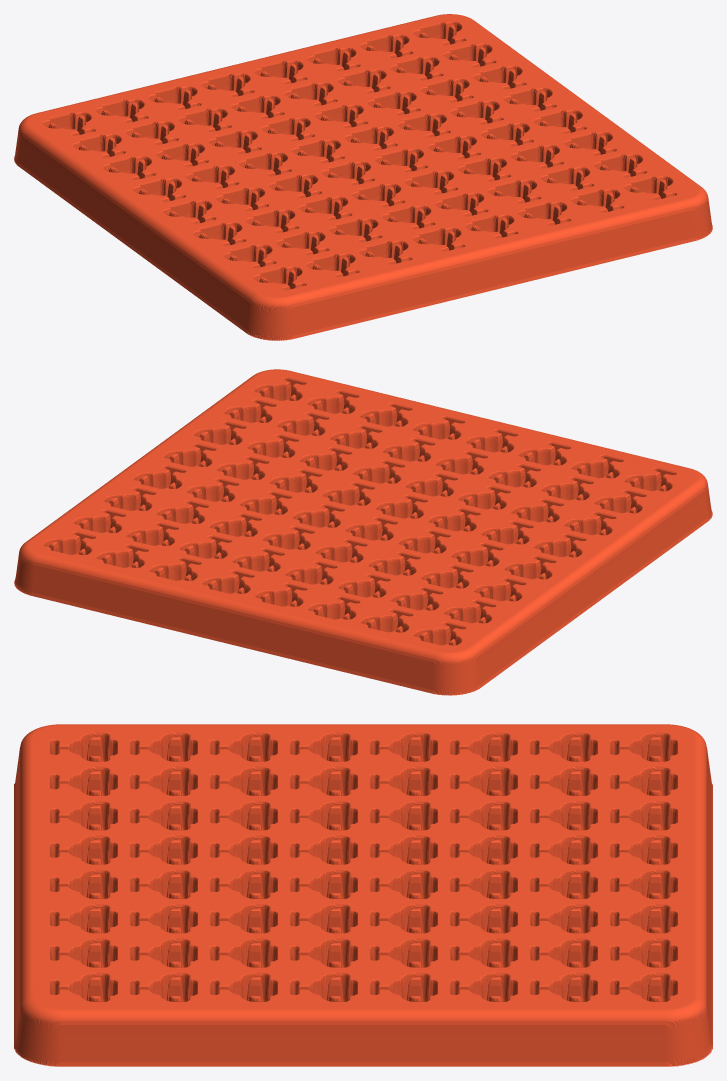
The model's file is mold.glb.
The picture shows the model from 3 angles, top to bottom: view 1: azimuth 30°, elevation 25°; view 2: azimuth 150°, elevation 25°; view 3: azimuth 270°, elevation 25°; orthographic projection. The views are drawn at different scales.
Parts seen in each view (by area): view 1: geometry_0; view 2: geometry_0; view 3: geometry_0.
Part boxes in pixels (<box>): geometry_0: <box>14,14,712,340</box>; geometry_0: <box>14,369,712,695</box>; geometry_0: <box>14,724,712,1066</box>.
Bounding box in the file's own units: 0.1355 × 0.0105 × 0.1337.
